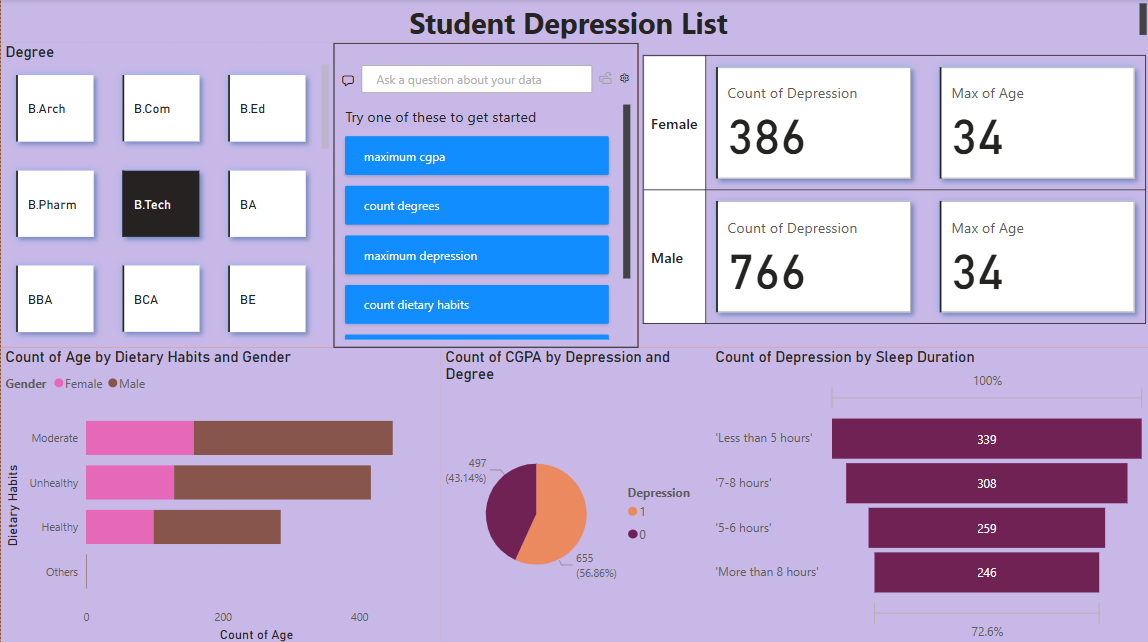

What the dashboard file says about the page in this screenshot:
{"tool":"powerbi","page":{"name":"Page 1","canvas":[1280,720],"ordinal":0},"visuals":[{"type":"barChart","fields":{"Category":["student_depression_dataset.Dietary Habits"],"Series":["student_depression_dataset.Gender"],"Y":["CountNonNull(student_depression_dataset.Age)"]},"box":[0,388.2,489.7,332.5],"z":0},{"type":"cardVisual","fields":{"Rows":["student_depression_dataset.Gender"],"Data":["CountNonNull(student_depression_dataset.Depression)","Max(student_depression_dataset.Age)"]},"box":[709.6,37.6,570.4,350.6],"z":1000},{"type":"funnel","fields":{"Y":["CountNonNull(student_depression_dataset.Depression)"],"Category":["student_depression_dataset.Sleep Duration"]},"box":[790.3,388.2,489.7,332.5],"z":2000},{"type":"advancedSlicerVisual","fields":{"Values":["student_depression_dataset.Degree"]},"box":[0,48.7,370.1,339.5],"z":3000},{"type":"pieChart","fields":{"Category":["student_depression_dataset.Depression"],"Series":["student_depression_dataset.Degree"],"Y":["CountNonNull(student_depression_dataset.CGPA)"]},"box":[489.7,388.2,300.5,332.5],"z":4000},{"type":"qnaVisual","box":[370.1,48.7,339.5,339.5],"z":5000},{"type":"textbox","box":[0,0,1280,48.7],"z":6000}]}

Visuals, with their boxes in screenshot pixels (x1, y1, x2, y2), scaled from the page's 1280x720 canvas onto the 1148x642 screenshot:
barChart - student_depression_dataset.Dietary Habits x student_depression_dataset.Gender: 0:346:439:641
cardVisual - student_depression_dataset.Gender x CountNonNull(student_depression_dataset.Depression): 636:34:1147:346
funnel - CountNonNull(student_depression_dataset.Depression) x student_depression_dataset.Sleep Duration: 709:346:1147:641
advancedSlicerVisual - student_depression_dataset.Degree: 0:43:332:346
pieChart - student_depression_dataset.Depression x student_depression_dataset.Degree: 439:346:709:641
qnaVisual: 332:43:636:346
textbox: 0:0:1147:43
